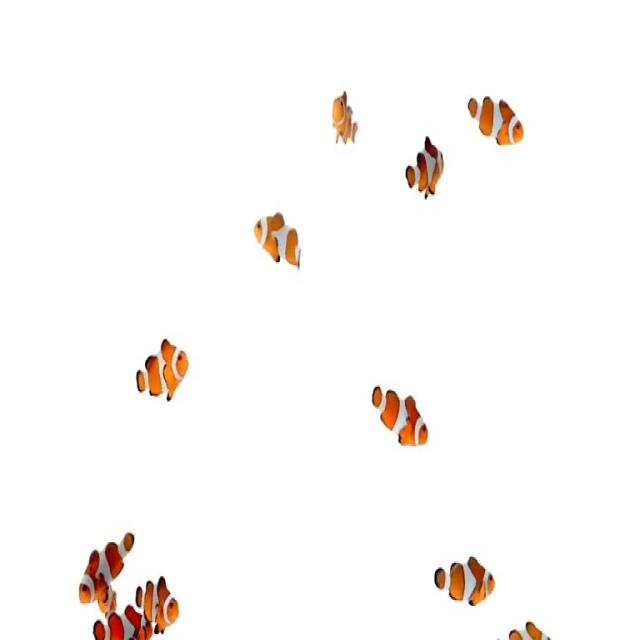fish: (369, 360, 434, 462), (129, 332, 196, 410), (73, 530, 135, 612), (250, 202, 308, 286), (433, 543, 500, 613), (466, 82, 524, 156), (135, 566, 187, 640), (400, 127, 446, 206), (91, 599, 153, 640), (329, 81, 361, 155), (508, 618, 558, 640)
